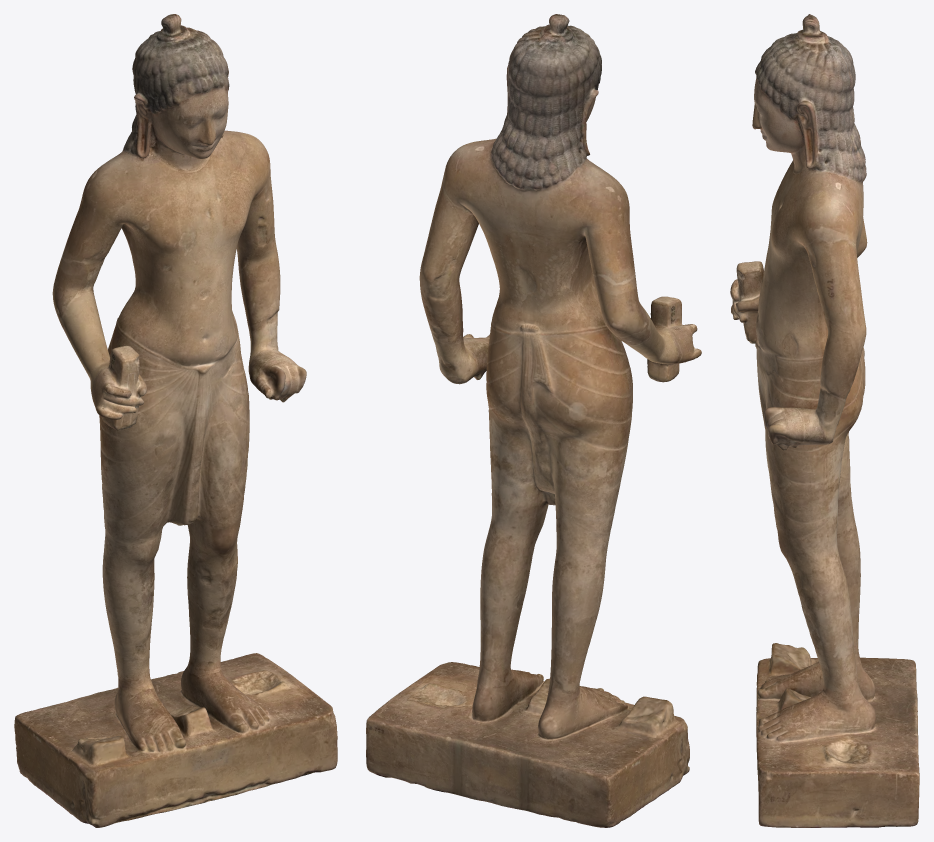
The model's file is preview.glb.
3 renders of one model, left to right at view 1: azimuth 30°, elevation 25°; view 2: azimuth 150°, elevation 25°; view 3: azimuth 270°, elevation 25°, orthographic. The views are drawn at different scales.
Parts seen in each view (by area): view 1: Diety_Deity_Mat_0; view 2: Diety_Deity_Mat_0; view 3: Diety_Deity_Mat_0.
Part boxes in pixels (left/top/right/bottom): Diety_Deity_Mat_0: left=14, top=14, right=337, bottom=827; Diety_Deity_Mat_0: left=366, top=14, right=701, bottom=827; Diety_Deity_Mat_0: left=730, top=14, right=919, bottom=827.
Size of the model in its own units: 0.5927 by 1.75 by 0.3998.
Materials: 1 (1 with a texture image).
